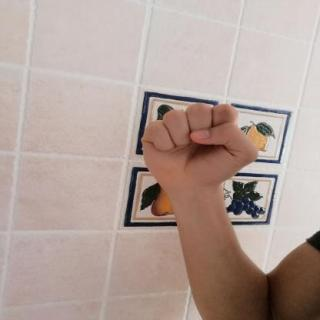SAD: (126, 93, 264, 199)
